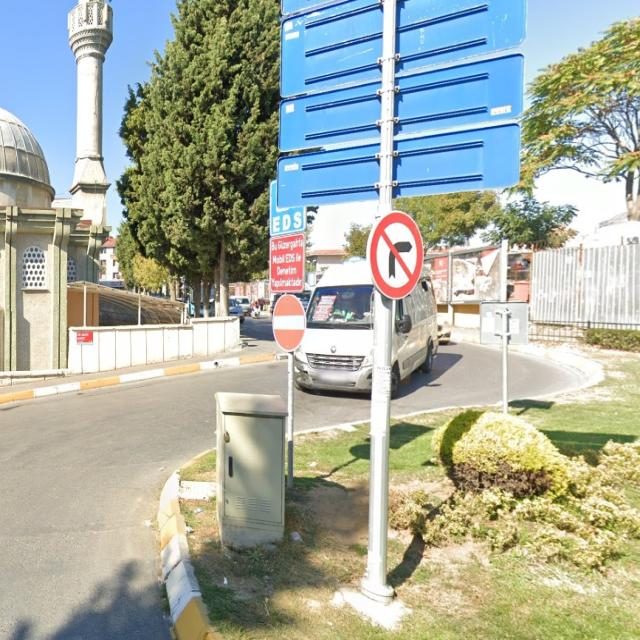girisyok: (273, 294, 306, 350)
sagadonulmez: (371, 210, 423, 300)
